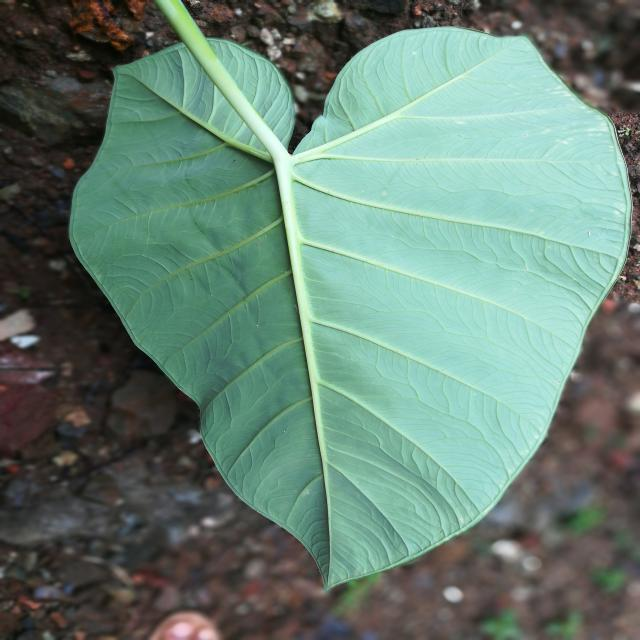leaf: (67, 24, 633, 593)
